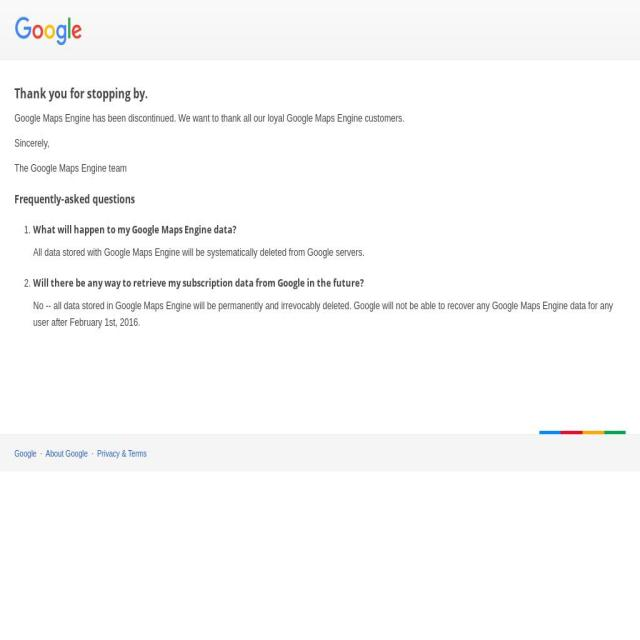heading: (33, 274, 619, 292), (14, 85, 626, 102), (14, 191, 626, 208), (33, 221, 619, 238), (14, 15, 87, 50)
link: (97, 448, 147, 459), (46, 448, 88, 459), (14, 448, 36, 459)
text: (33, 298, 619, 332), (14, 109, 626, 127), (14, 134, 626, 152), (14, 159, 626, 177), (33, 244, 619, 262)
